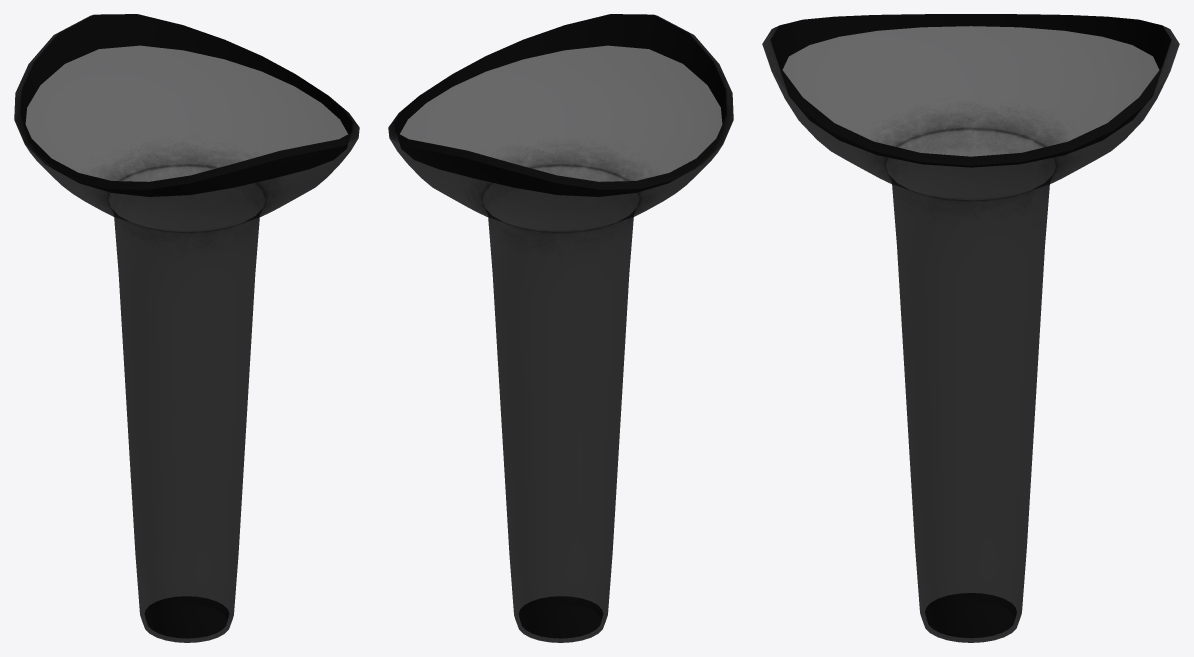
The model's file is BAP_01.glb.
The picture shows the model from 3 angles, left to right: view 1: azimuth 30°, elevation 25°; view 2: azimuth 150°, elevation 25°; view 3: azimuth 270°, elevation 25°; orthographic projection. The views are drawn at different scales.
Visible parts, largest first — view 1: B.A.P_01; view 2: B.A.P_01; view 3: B.A.P_01.
Boxes of the visible parts, box(x1,y1,x2,y2) form: B.A.P_01: box(14, 14, 359, 642); B.A.P_01: box(388, 14, 733, 642); B.A.P_01: box(762, 14, 1179, 642).
Size of the model in its own units: 0.172 by 0.3142 by 0.2036.
1 material, 1 textured.
